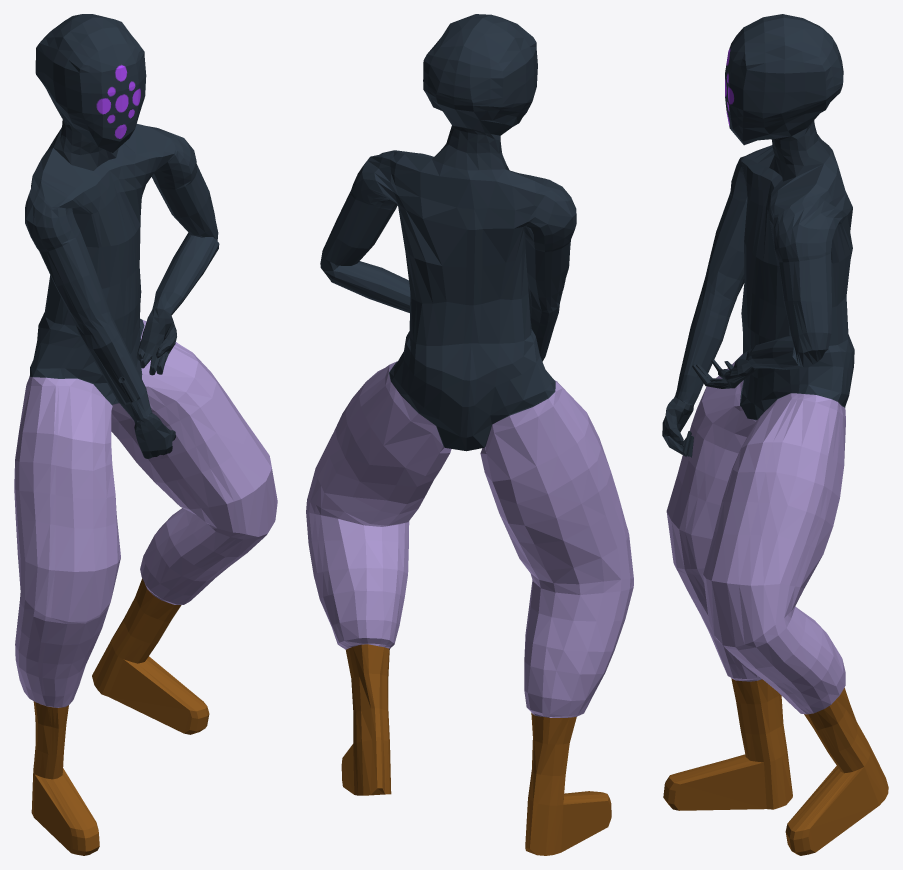
File: Oracle_WL_000008.obj
The picture shows the model from 3 angles, left to right: view 1: azimuth 30°, elevation 25°; view 2: azimuth 150°, elevation 25°; view 3: azimuth 270°, elevation 25°; orthographic projection. The views are drawn at different scales.
Visible parts, largest first — view 1: Cube; view 2: Cube; view 3: Cube.
Part boxes in pixels (x1,y1,x2,y2): Cube: (14, 14, 277, 855); Cube: (306, 14, 633, 855); Cube: (662, 14, 888, 855).
Size of the model in its own units: 1.42 by 3.85 by 0.9668.
